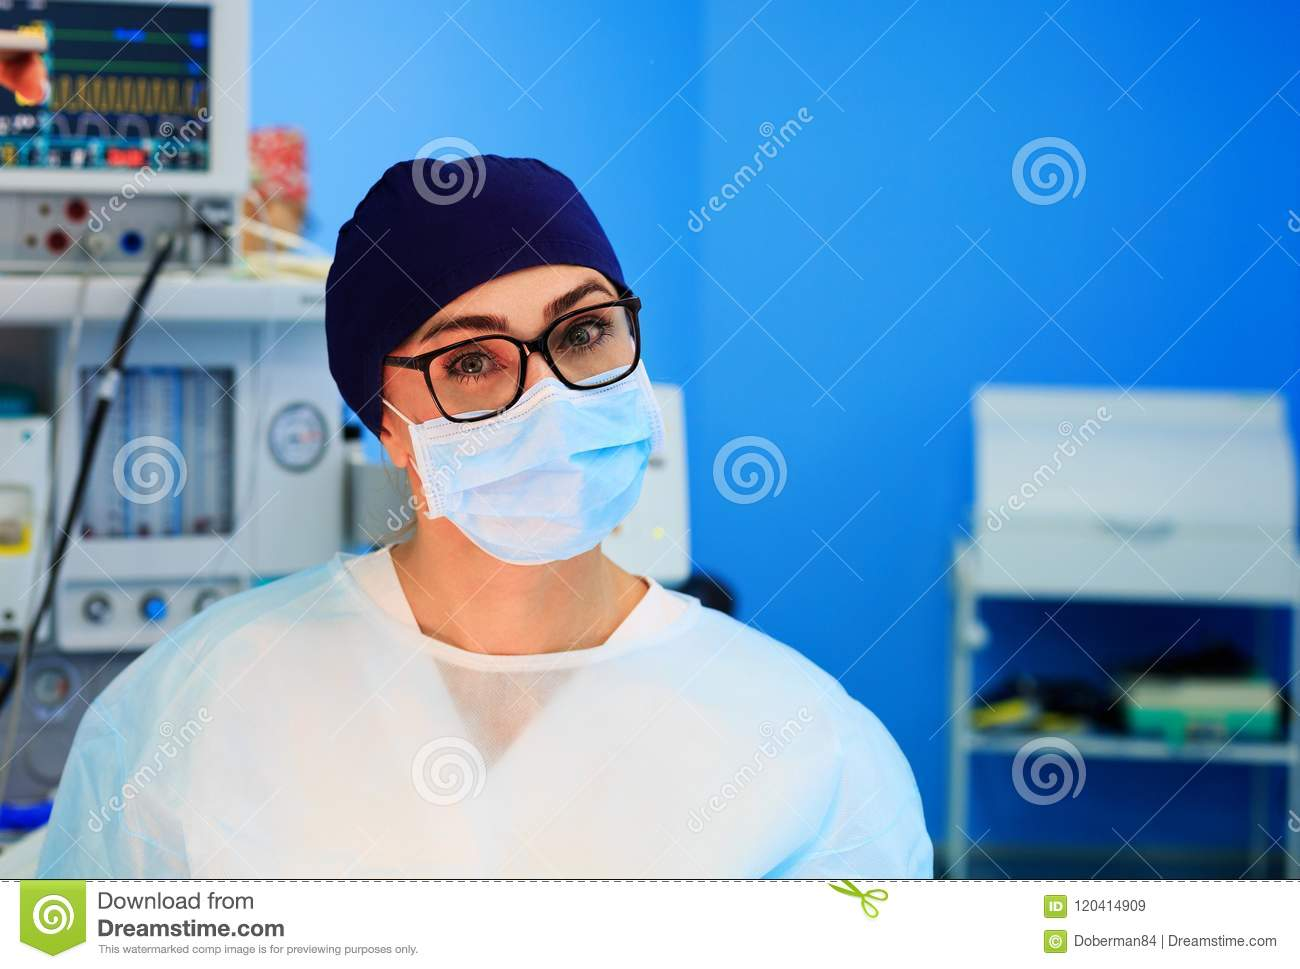mask: (415, 393, 665, 567)
